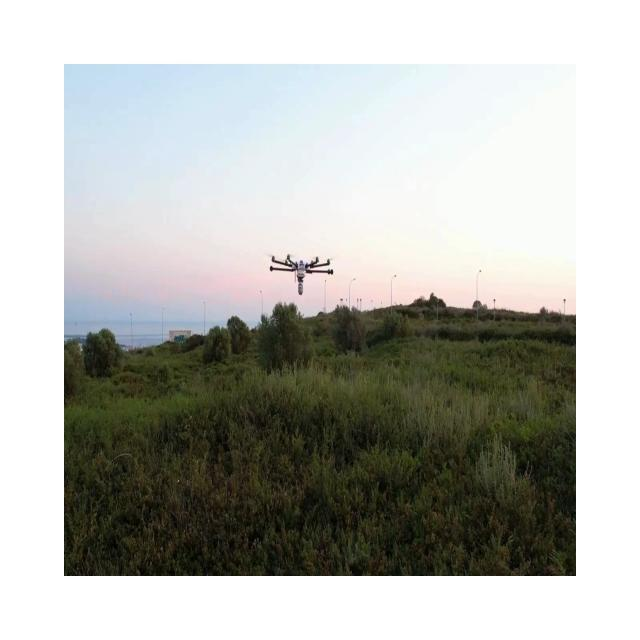drone: (268, 253, 333, 295)
